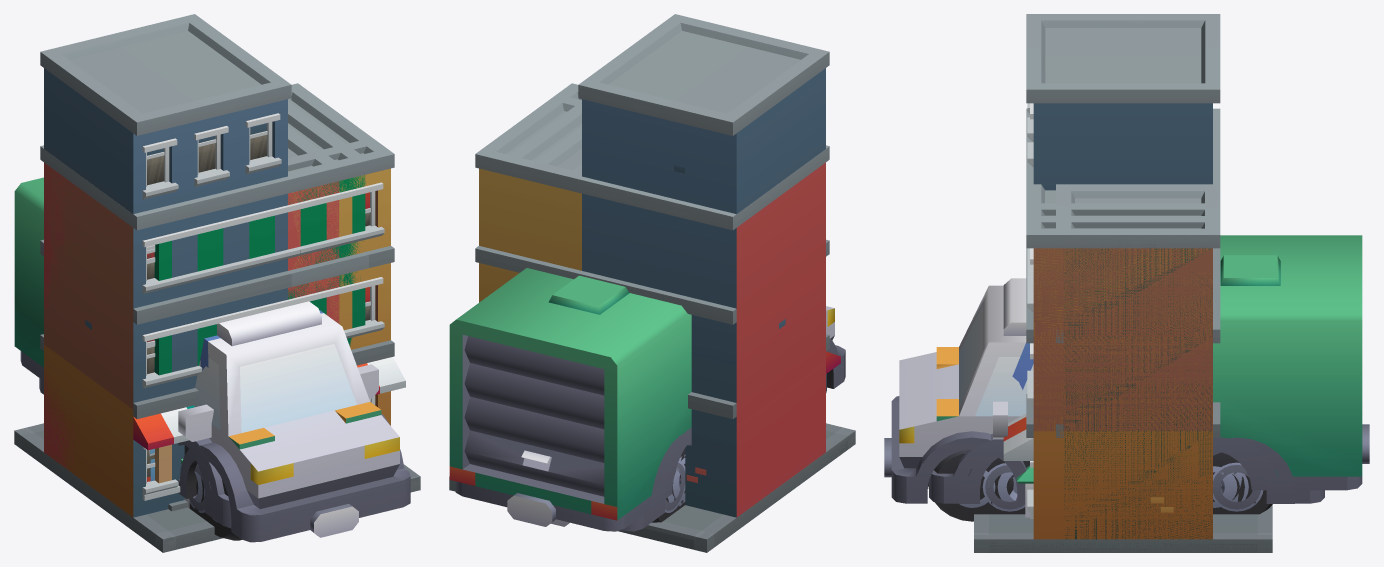
File: town.glb
3 views of the same model, side by side, from view 1: azimuth 30°, elevation 25°; view 2: azimuth 150°, elevation 25°; view 3: azimuth 270°, elevation 25° (orthographic).
Parts seen in each view (by area): view 1: building_H_withoutBase, body (×5), building_E_withoutBase, building_F_withoutBase, building_D_withoutBase, building_C_withoutBase, base, building_B_withoutBase, road_straight, building_A_withoutBase, building_G_withoutBase; view 2: building_H_withoutBase, body (×3), building_F_withoutBase, door, base, road_straight, building_E_withoutBase, building_D_withoutBase, road_junction, building_C_withoutBase; view 3: body (×5), building_E_withoutBase, building_H_withoutBase, building_F_withoutBase, building_G_withoutBase, base, road_straight, building_D_withoutBase, wheel-front-left (×3), building_C_withoutBase, wheel-back-left (×2), road_junction.
Boxes of the visible parts, x1=… form: building_H_withoutBase: x1=40, y1=14, x2=379, y2=517; body (×5): x1=14, y1=177, x2=410, y2=542; building_E_withoutBase: x1=40, y1=103, x2=405, y2=517; building_F_withoutBase: x1=40, y1=92, x2=393, y2=495; building_D_withoutBase: x1=154, y1=101, x2=366, y2=506; building_C_withoutBase: x1=199, y1=126, x2=342, y2=323; base: x1=14, y1=423, x2=420, y2=552; building_B_withoutBase: x1=168, y1=255, x2=368, y2=511; road_straight: x1=14, y1=429, x2=420, y2=552; building_A_withoutBase: x1=186, y1=261, x2=343, y2=408; building_G_withoutBase: x1=134, y1=253, x2=290, y2=481; building_H_withoutBase: x1=475, y1=14, x2=829, y2=517; body (×3): x1=449, y1=268, x2=845, y2=531; building_F_withoutBase: x1=480, y1=92, x2=829, y2=517; door: x1=464, y1=336, x2=604, y2=496; base: x1=644, y1=423, x2=855, y2=552; road_straight: x1=698, y1=432, x2=854, y2=552; building_E_withoutBase: x1=475, y1=83, x2=840, y2=373; building_D_withoutBase: x1=501, y1=106, x2=581, y2=270; road_junction: x1=449, y1=428, x2=855, y2=552; building_C_withoutBase: x1=533, y1=126, x2=581, y2=270; body (×5): x1=884, y1=235, x2=1369, y2=503; building_E_withoutBase: x1=1003, y1=184, x2=1220, y2=539; building_H_withoutBase: x1=1026, y1=14, x2=1220, y2=512; building_F_withoutBase: x1=1026, y1=184, x2=1220, y2=539; building_G_withoutBase: x1=1056, y1=191, x2=1220, y2=539; base: x1=974, y1=505, x2=1272, y2=552; road_straight: x1=974, y1=535, x2=1272, y2=552; building_D_withoutBase: x1=1026, y1=187, x2=1220, y2=411; wheel-front-left (×3): x1=928, y1=450, x2=1029, y2=521; building_C_withoutBase: x1=1026, y1=184, x2=1205, y2=399; wheel-back-left (×2): x1=1213, y1=454, x2=1272, y2=514; road_junction: x1=974, y1=536, x2=1272, y2=552.
Bounding box in the file's own units: 2.01 × 3.35 × 3.25.
5 materials, 5 textured.
